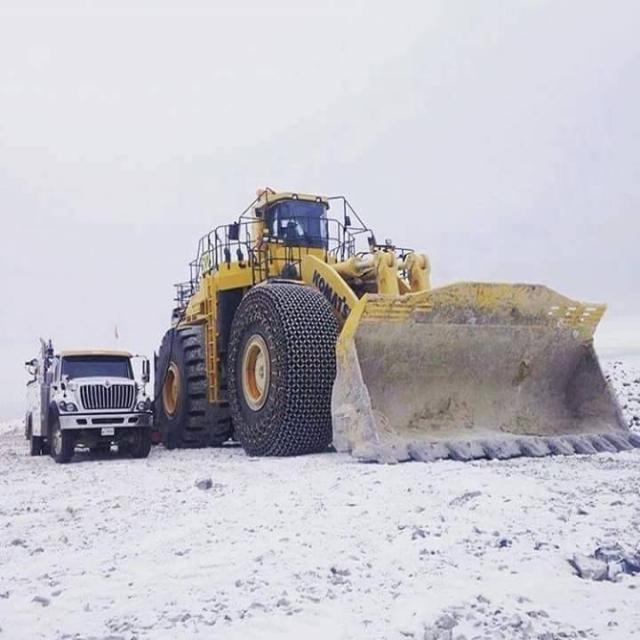buldozerpayloadergrader: (158, 188, 625, 460)
